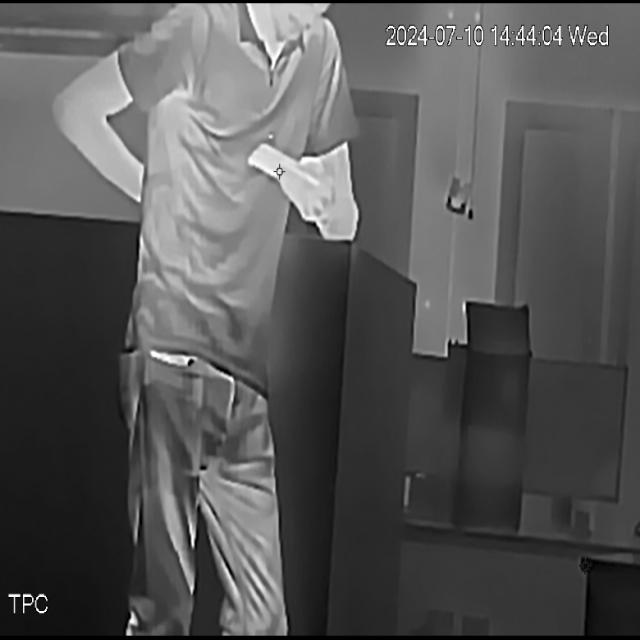Weapon: (134, 347, 216, 488)
